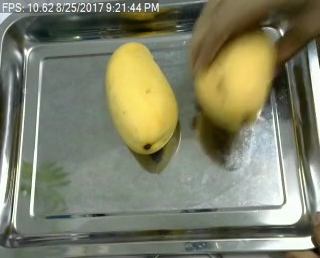Mango: (193, 22, 282, 133), (106, 35, 182, 157)
